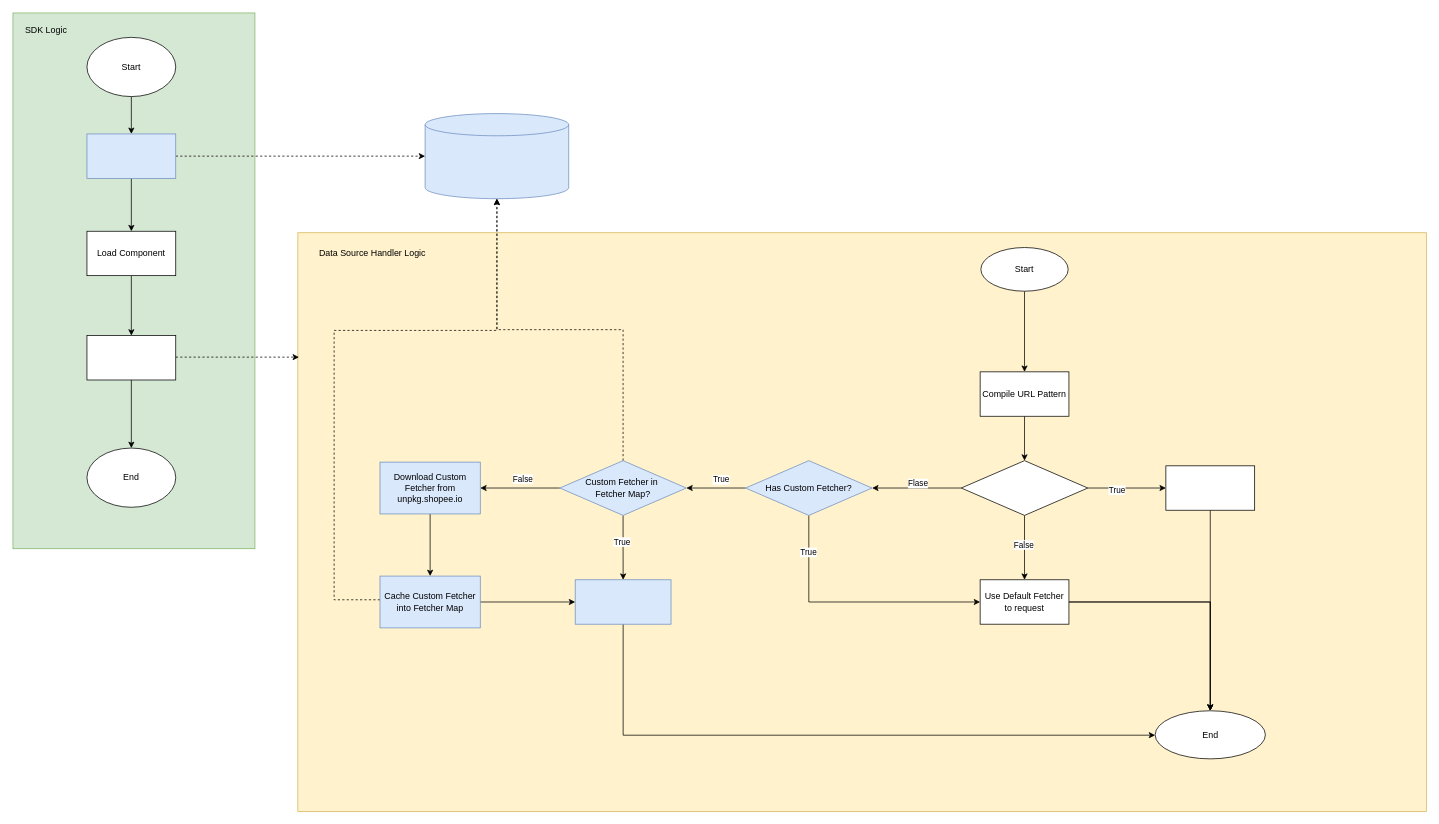
Image size: 1439x824. Some labels were removed from this diagram. The box of each missing label's shape, as (x1, y1, x2, y2) in pixels:
Enable Space Auth?: (961, 460, 1088, 515)
Fetcher Map: (424, 113, 569, 199)
Register Customer Fetcher: (86, 133, 176, 178)
Render Page: (86, 335, 176, 380)
Use Customer Fetcher to request: (574, 579, 671, 624)
Use Space Fetcher to request: (1165, 465, 1255, 510)
